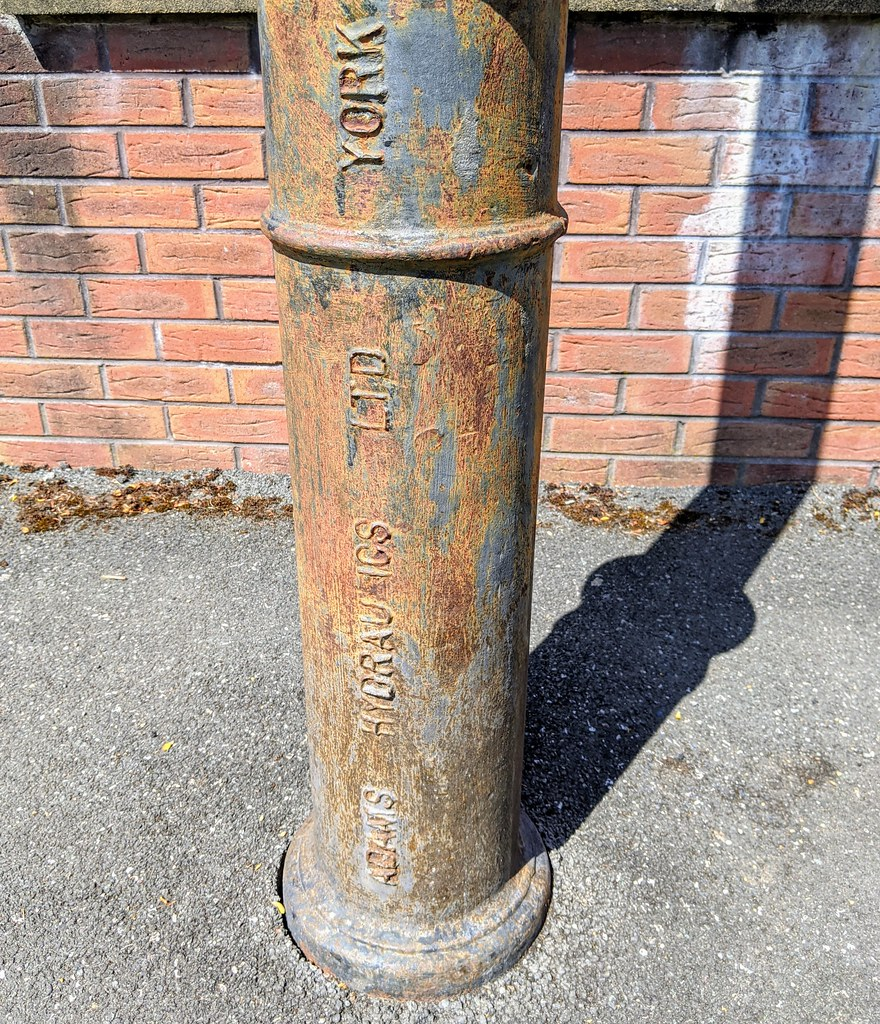Low: (259, 212, 559, 911), (263, 1, 565, 259)
